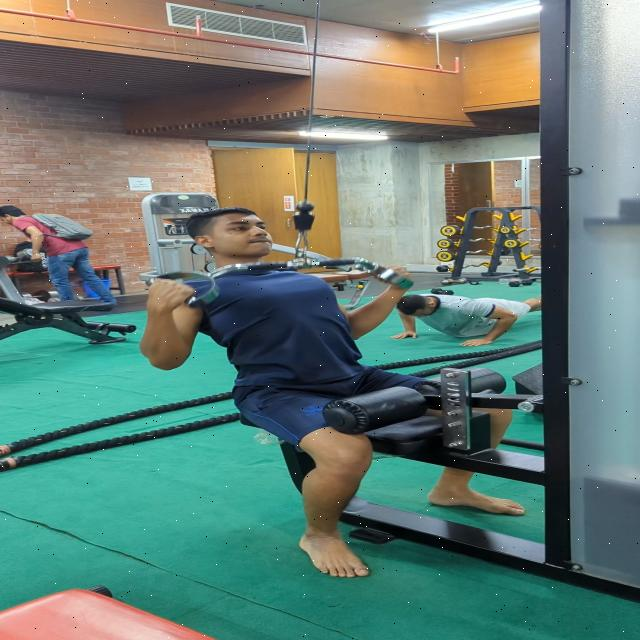Normal_LatPulldown: (136, 197, 510, 578)
